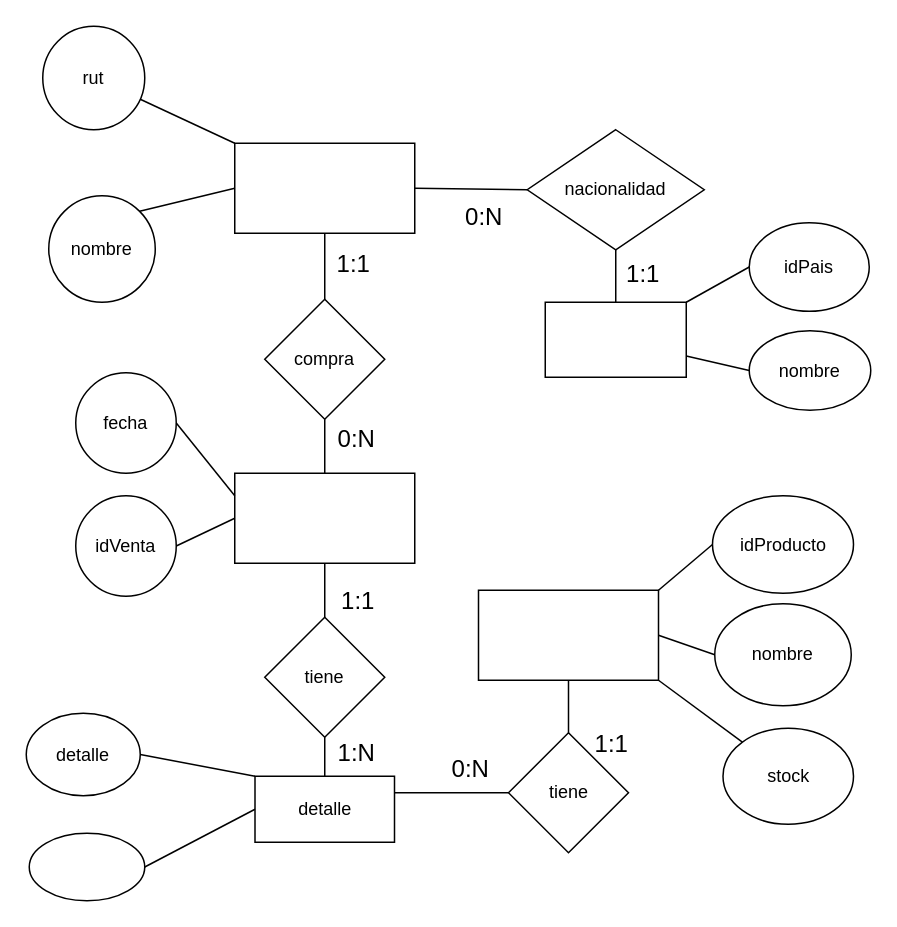
Image size: 897x927. Some labels were removed from this diagram. Each missing label, with the centre of its shape:
"cantidad" goes at (x=86, y=866).
"cliente" goes at (x=324, y=187).
"pais" goes at (x=615, y=339).
"producto" goes at (x=567, y=634).
"venta" goes at (x=324, y=517).
